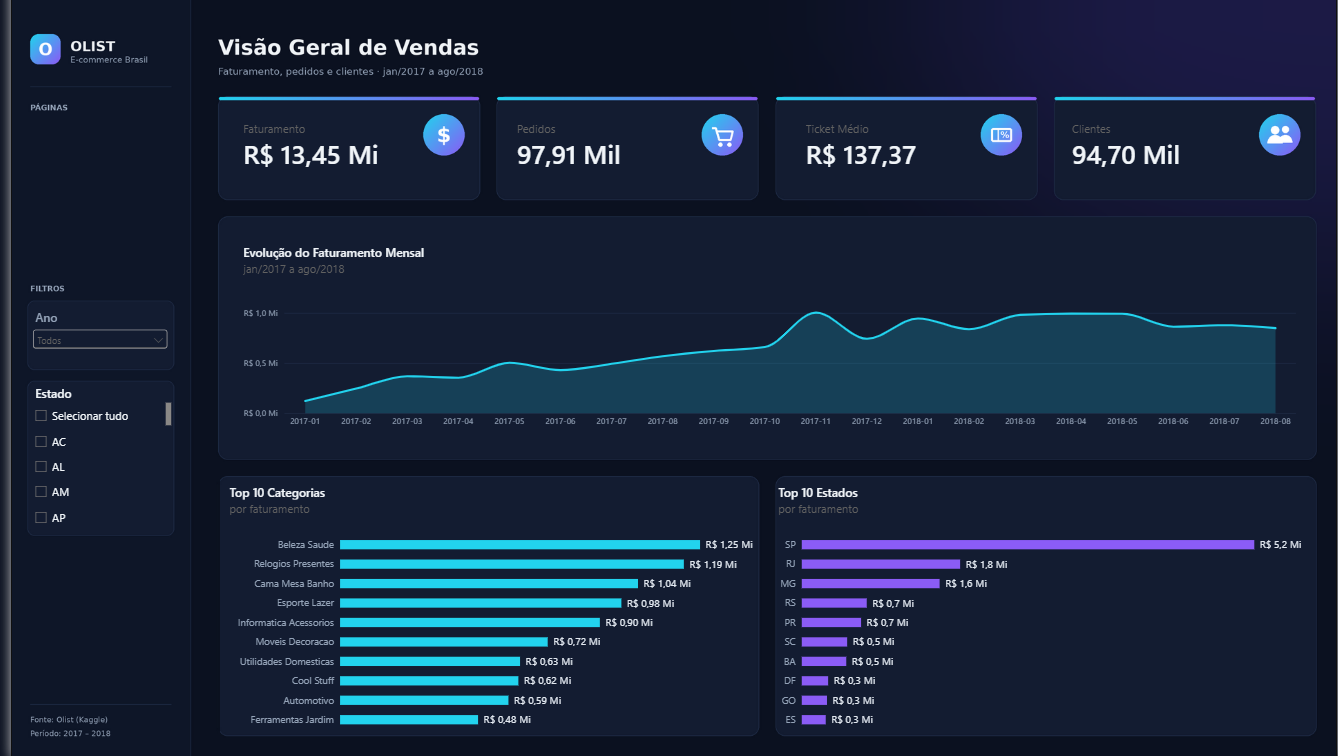

The dashboard page shown, as its layout file describes it:
{"tool":"powerbi","page":{"name":"Visão Geral","canvas":[1920,1080],"ordinal":0},"visuals":[{"type":"cardVisual","fields":{"Data":["_Medidas.Faturamento"]},"box":[320,135,275,115],"z":0},{"type":"cardVisual","fields":{"Data":["_Medidas.Pedidos"]},"box":[717.5,135,242.5,115],"z":1000},{"type":"cardVisual","fields":{"Data":["_Medidas.Clientes"]},"box":[1520,135,252.5,115],"z":2000},{"type":"cardVisual","fields":{"Data":["_Medidas.Ticket Médio"]},"box":[1135,135,237.5,115],"z":3000},{"type":"lineChart","title":"Evolução do Faturamento Mensal","fields":{"Category":["dCalendario.Ano-Mês"],"Y":["_Medidas.Faturamento"]},"box":[320,320,1556,300],"z":4000},{"type":"clusteredBarChart","title":"Top 10 Categorias","fields":{"Category":["dProdutos.Categoria"],"Y":["_Medidas.Faturamento"]},"box":[300,668,790,390],"z":5000},{"type":"barChart","title":"Top 10 Estados","fields":{"Category":["dClientes.customer_state"],"Y":["_Medidas.Faturamento"]},"box":[1094,668,790,390],"z":6000},{"type":"slicer","fields":{"Values":["dCalendario.Ano"]},"box":[28,428,204,88],"z":7000},{"type":"slicer","fields":{"Values":["dClientes.customer_state"]},"box":[27.1,539.3,204.5,211.7],"z":8000},{"type":"pageNavigator","box":[14,172,232,196],"z":9000}]}

Visuals, with their boxes on the page's 1920x1080 design canvas (x1, y1, x2, y2). These are canvas units, not pixel positions in the 1338x756 screenshot, which may show the page scaled, cropped or inside an application window:
cardVisual - _Medidas.Faturamento: bbox(320, 135, 595, 250)
cardVisual - _Medidas.Pedidos: bbox(718, 135, 960, 250)
cardVisual - _Medidas.Clientes: bbox(1520, 135, 1772, 250)
cardVisual - _Medidas.Ticket Médio: bbox(1135, 135, 1372, 250)
"Evolução do Faturamento Mensal" lineChart: bbox(320, 320, 1876, 620)
"Top 10 Categorias" clusteredBarChart: bbox(300, 668, 1090, 1058)
"Top 10 Estados" barChart: bbox(1094, 668, 1884, 1058)
slicer - dCalendario.Ano: bbox(28, 428, 232, 516)
slicer - dClientes.customer_state: bbox(27, 539, 232, 751)
pageNavigator: bbox(14, 172, 246, 368)
